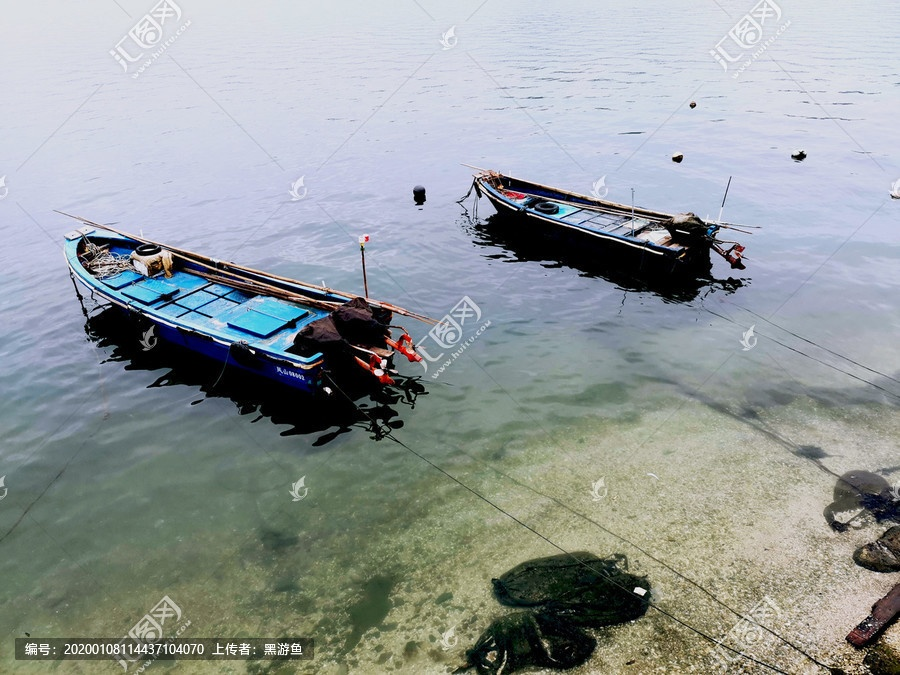otherboat: (56, 209, 428, 412), (464, 161, 749, 292)
